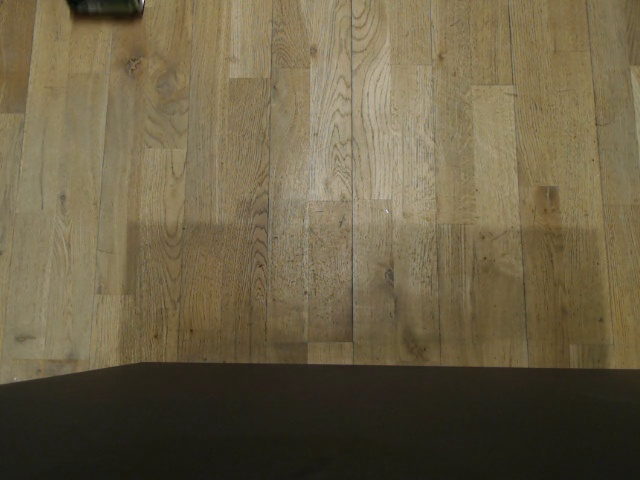beer: (56, 0, 153, 25)
